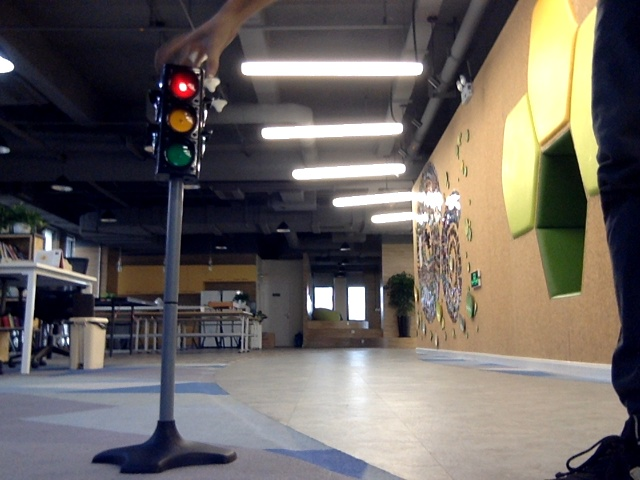red: (162, 74, 196, 169)
